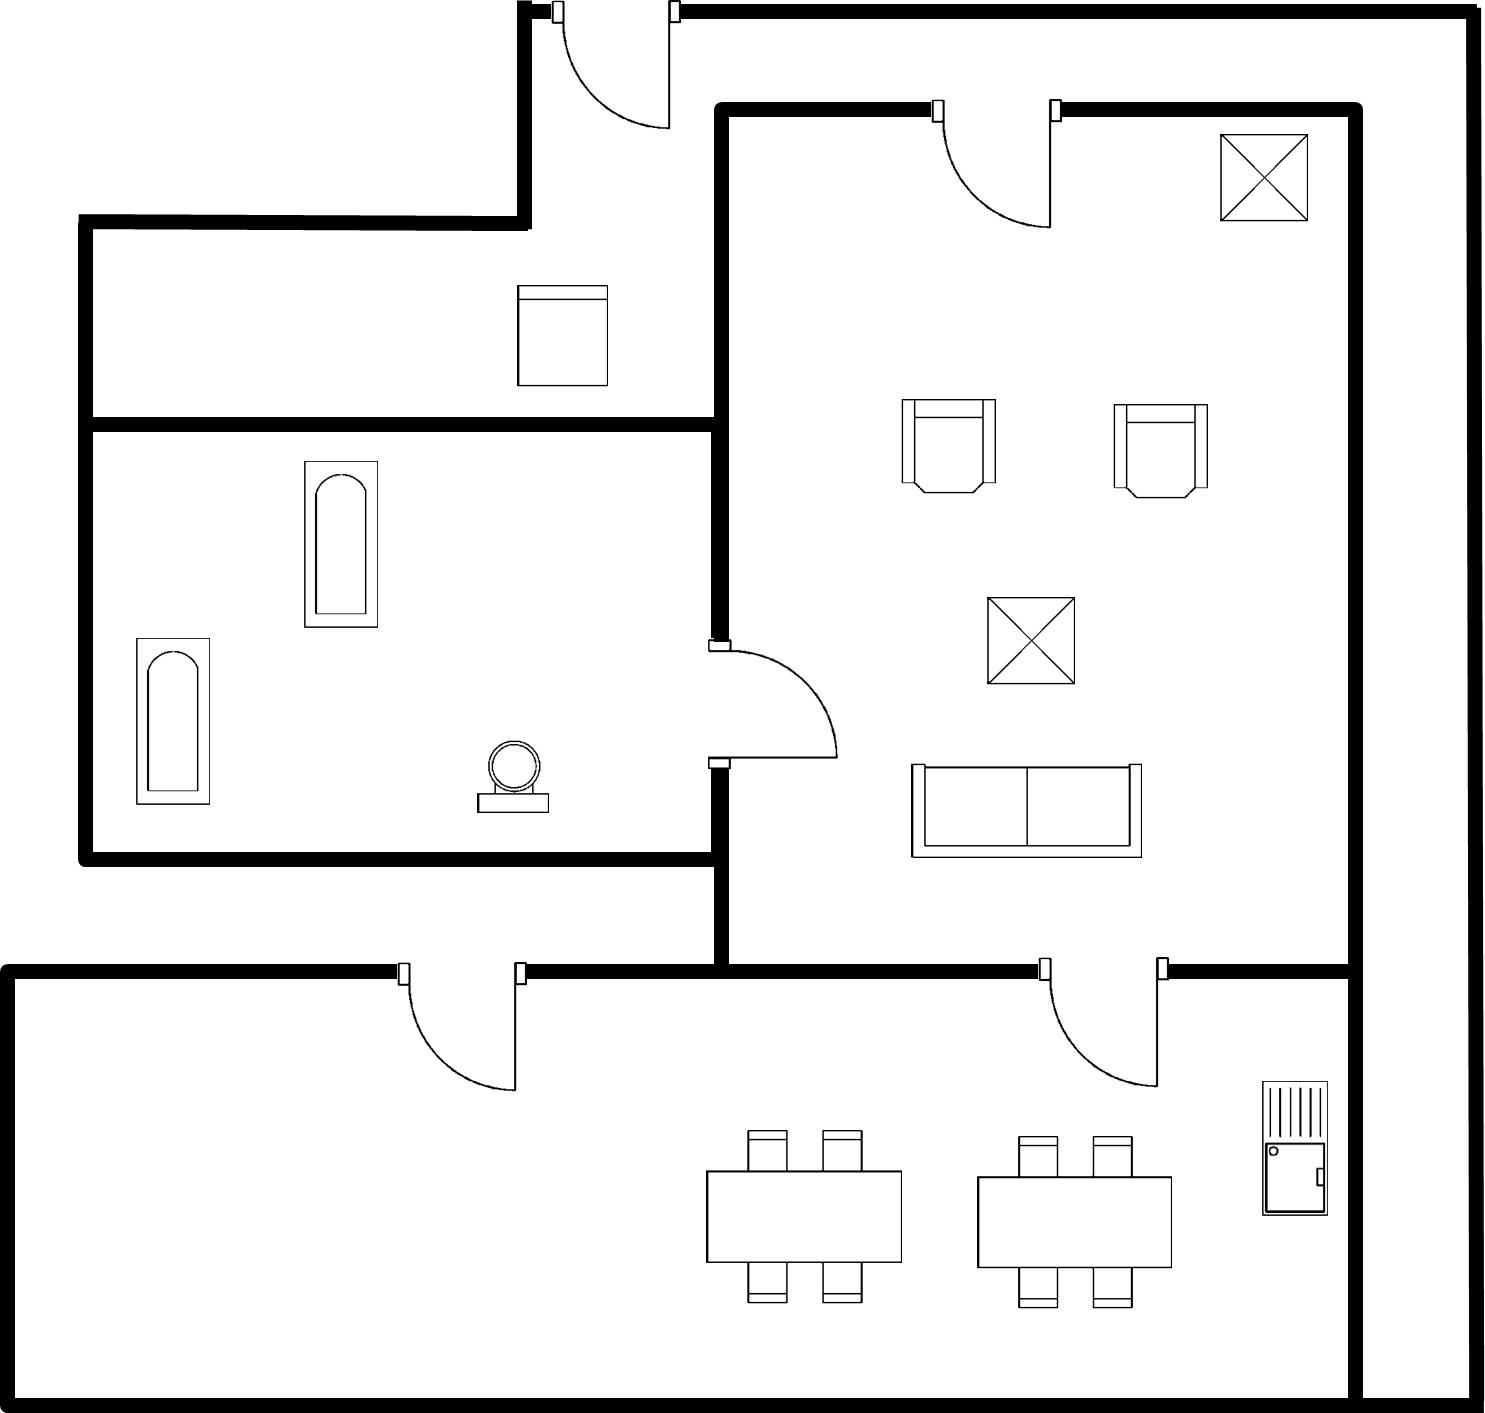armchair: (1097, 394, 1222, 515), (884, 387, 1007, 506)
coffee_table: (978, 585, 1086, 699), (1210, 124, 1319, 235)
dining_table: (963, 1125, 1188, 1320), (695, 1120, 916, 1314)
large_sink: (466, 729, 558, 822)
large_sofa: (899, 754, 1153, 872)
sink: (1247, 1072, 1341, 1233)
small_sofa: (507, 274, 621, 403)
tub: (122, 626, 225, 818), (290, 451, 389, 646)
